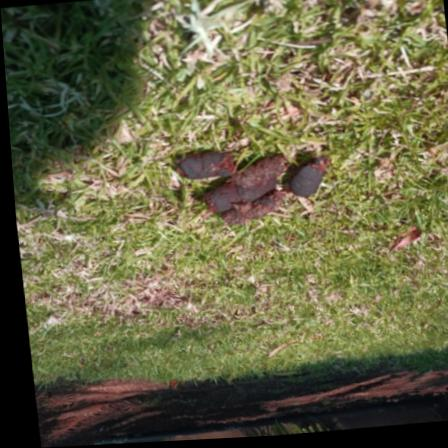dog-poop: (167, 137, 330, 231)
